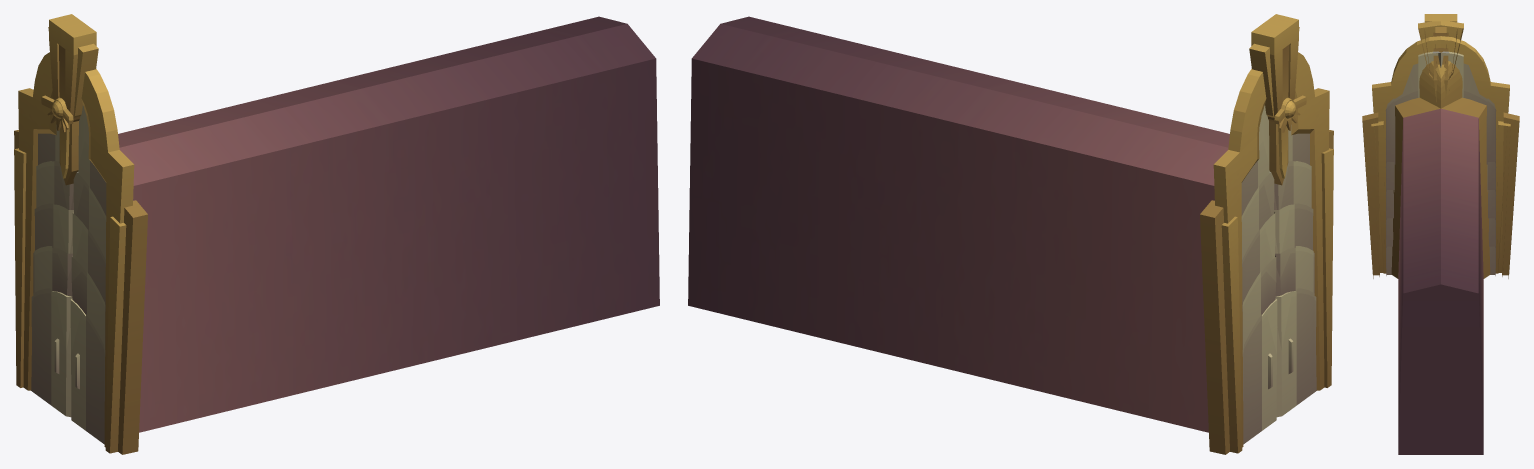
Rendered from SM_BossDoor.fbx.
3 views of the same model, side by side, from view 1: azimuth 30°, elevation 25°; view 2: azimuth 150°, elevation 25°; view 3: azimuth 270°, elevation 25° (orthographic). The views are drawn at different scales.
Parts seen in each view (by area): view 1: SM_BossDoor; view 2: SM_BossDoor; view 3: SM_BossDoor.
Boxes of the visible parts, x1=… form: SM_BossDoor: x1=14, y1=14, x2=659, y2=454; SM_BossDoor: x1=688, y1=14, x2=1333, y2=454; SM_BossDoor: x1=1362, y1=14, x2=1519, y2=454.
Bounding box in the file's own units: 1065 × 382 × 693.
